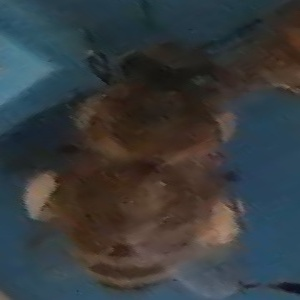bee: (25, 35, 243, 295)
